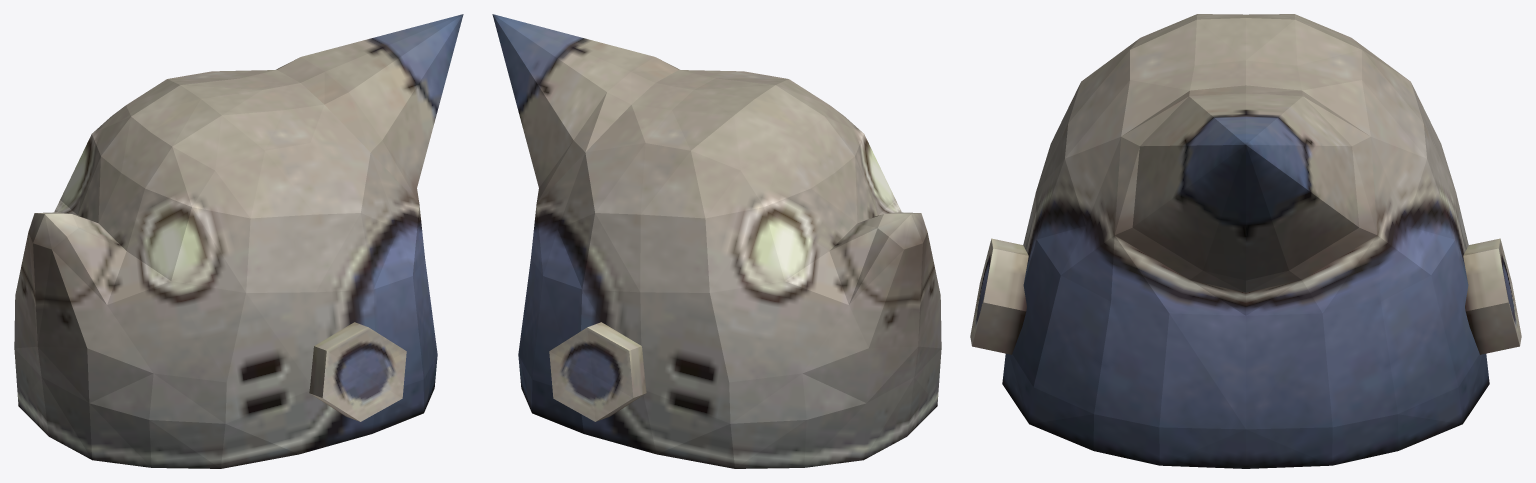
Rendered from Mole_machinistHelmet.obj.
3 renders of one model, left to right at view 1: azimuth 30°, elevation 25°; view 2: azimuth 150°, elevation 25°; view 3: azimuth 270°, elevation 25°, orthographic. The views are drawn at different scales.
Visible parts, largest first — view 1: Mole_machinistHelmet_tri; view 2: Mole_machinistHelmet_tri; view 3: Mole_machinistHelmet_tri.
Part boxes in pixels (x1,y1,x2,y2): Mole_machinistHelmet_tri: (14,14,463,468); Mole_machinistHelmet_tri: (492,14,941,468); Mole_machinistHelmet_tri: (970,14,1521,468).
Bounding box in the file's own units: 0.4527 × 0.3229 × 0.4244.
Materials: 1 (1 with a texture image).
